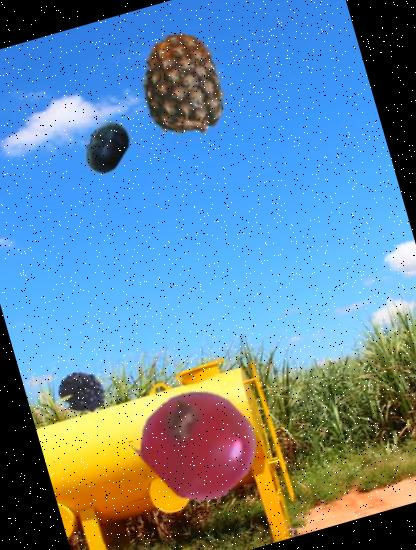Blueberry: (72, 112, 140, 180)
Mulberry: (43, 348, 117, 422)
Pineapple: (116, 19, 250, 152)
Redcurrant: (130, 372, 270, 513)
